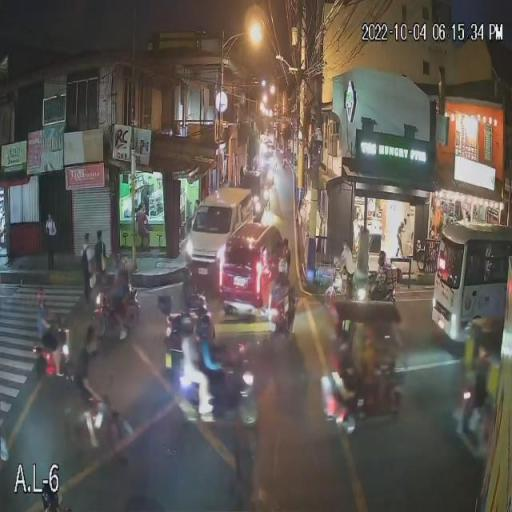motorcycle: (162, 321, 259, 427), (64, 383, 128, 459), (87, 282, 142, 340), (29, 318, 73, 384), (322, 271, 364, 312), (365, 267, 398, 304)
rider: (177, 308, 222, 420), (64, 328, 102, 417), (34, 287, 64, 359), (102, 257, 133, 323), (328, 242, 357, 289), (373, 250, 393, 286)
